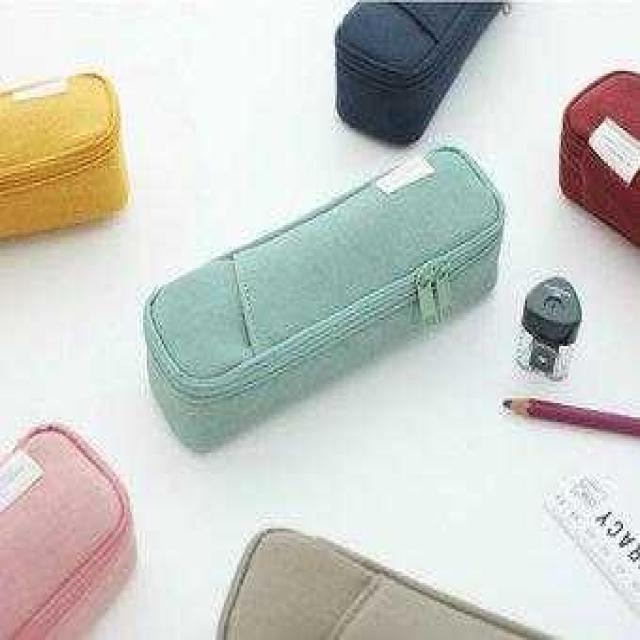pencil: (486, 383, 638, 456)
